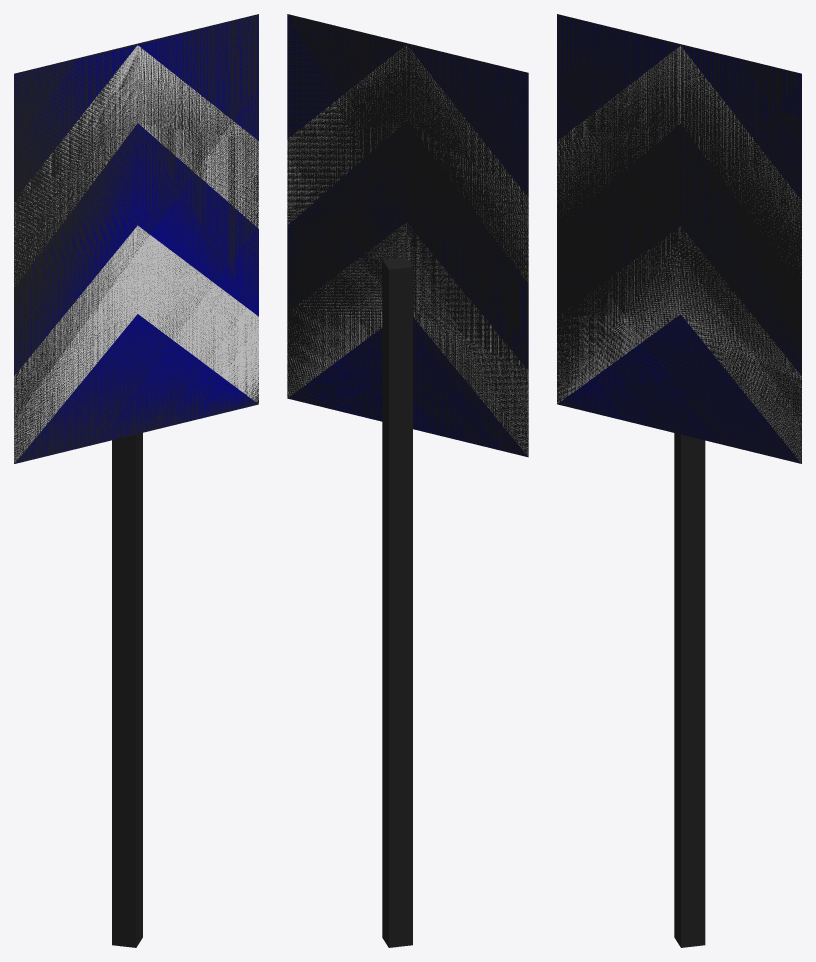
The model's file is highwayexit.obj.
The picture shows the model from 3 angles, left to right: view 1: azimuth 30°, elevation 25°; view 2: azimuth 150°, elevation 25°; view 3: azimuth 330°, elevation 25°; orthographic projection.
Parts seen in each view (by area): view 1: Cylinder.003; view 2: Cylinder.003; view 3: Cylinder.003.
Boxes of the visible parts, bbox=[...] form: Cylinder.003: bbox=[14, 14, 258, 947]; Cylinder.003: bbox=[287, 14, 528, 947]; Cylinder.003: bbox=[557, 14, 801, 947].
Size of the model in its own units: 0.9391 by 3.32 by 0.1247.
